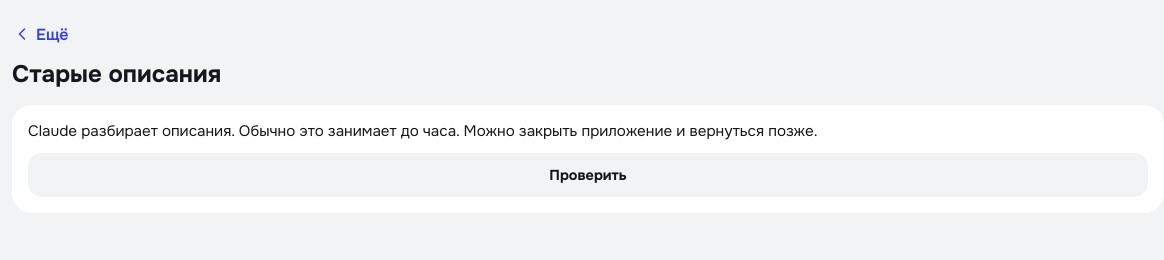
it: CleanupScreen: submitted › tells the user to come back later and offers «Проверить»
Expected: the text "Claude разбирает описания. Обычно это занимает до часа. Можно закрыть приложение и вернуться позже." is shown, [28,121,818,141]
Click the button "Проверить" at {"x": 588, "y": 175}, box [28,153,1148,197]
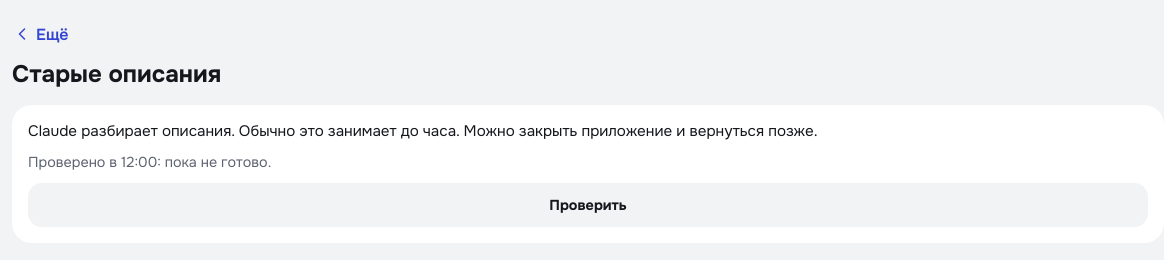
Expected: the text "Проверено в 12:00: пока не готово." is shown, [28,153,271,171]
